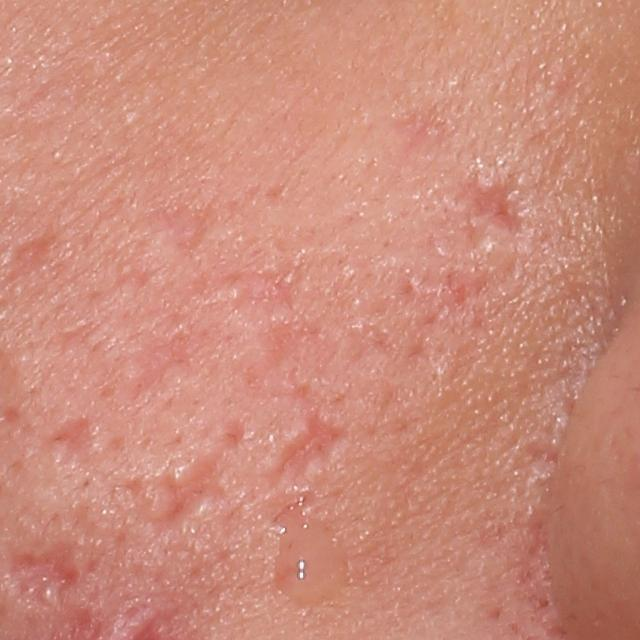atrophic_scar: (129, 419, 249, 532), (97, 323, 212, 414), (259, 404, 354, 489), (448, 161, 538, 248), (3, 539, 81, 599), (146, 201, 226, 254), (46, 415, 88, 472), (1, 405, 22, 431)
hypertrophic_scar: (171, 460, 196, 489)
